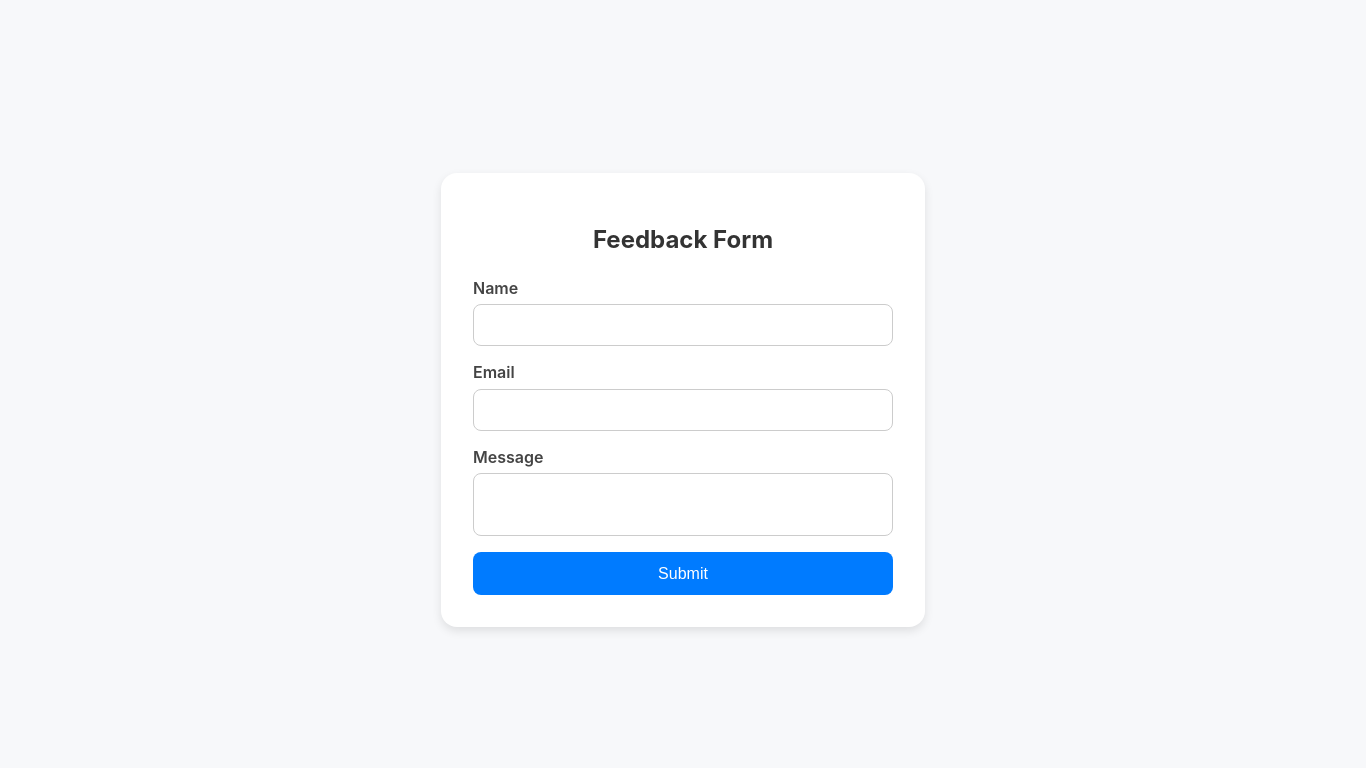
FeedbackForm › submits form successfully and shows modal
The image size is (1366, 768).
In the field labelled "Name": (683, 325) [473,304,893,346], type "Vishal"
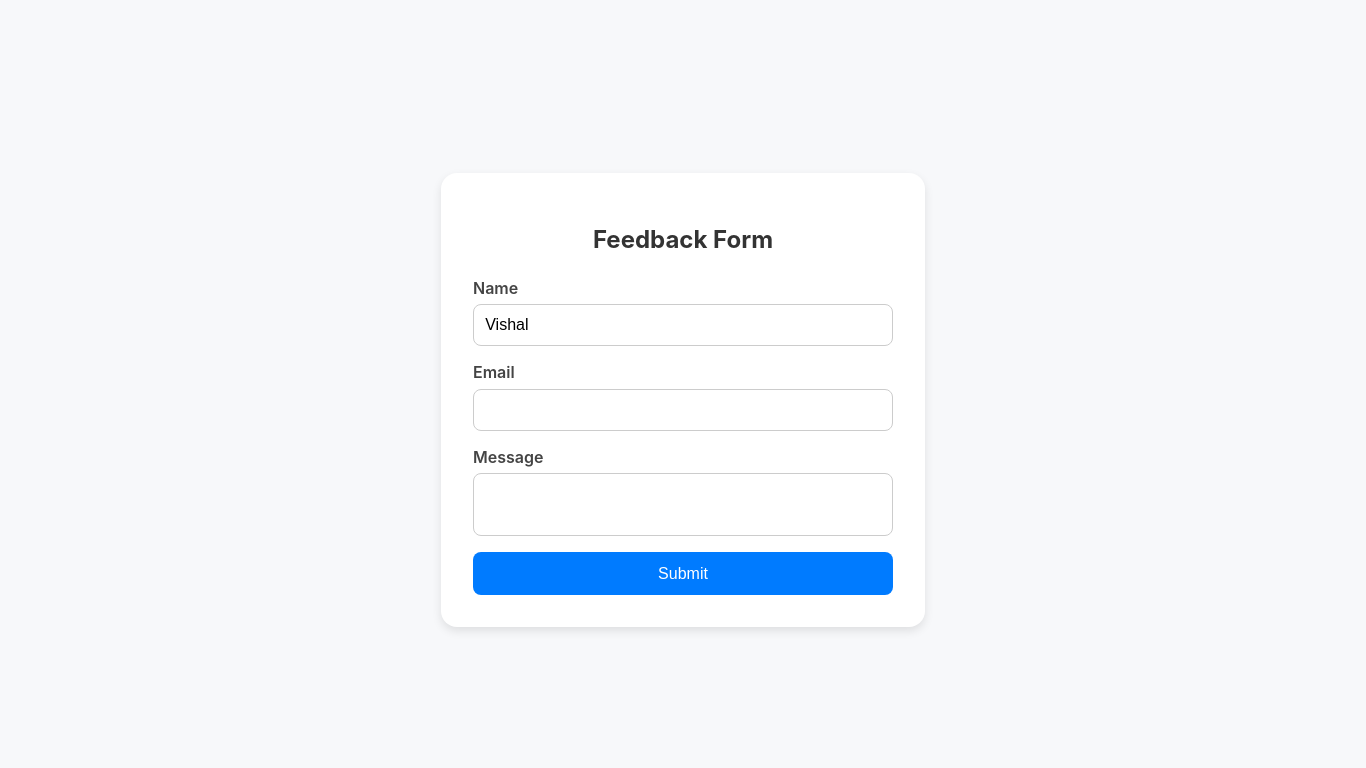
In the field labelled "Email": (683, 410) [473,389,893,431], type "vishal@example.com"
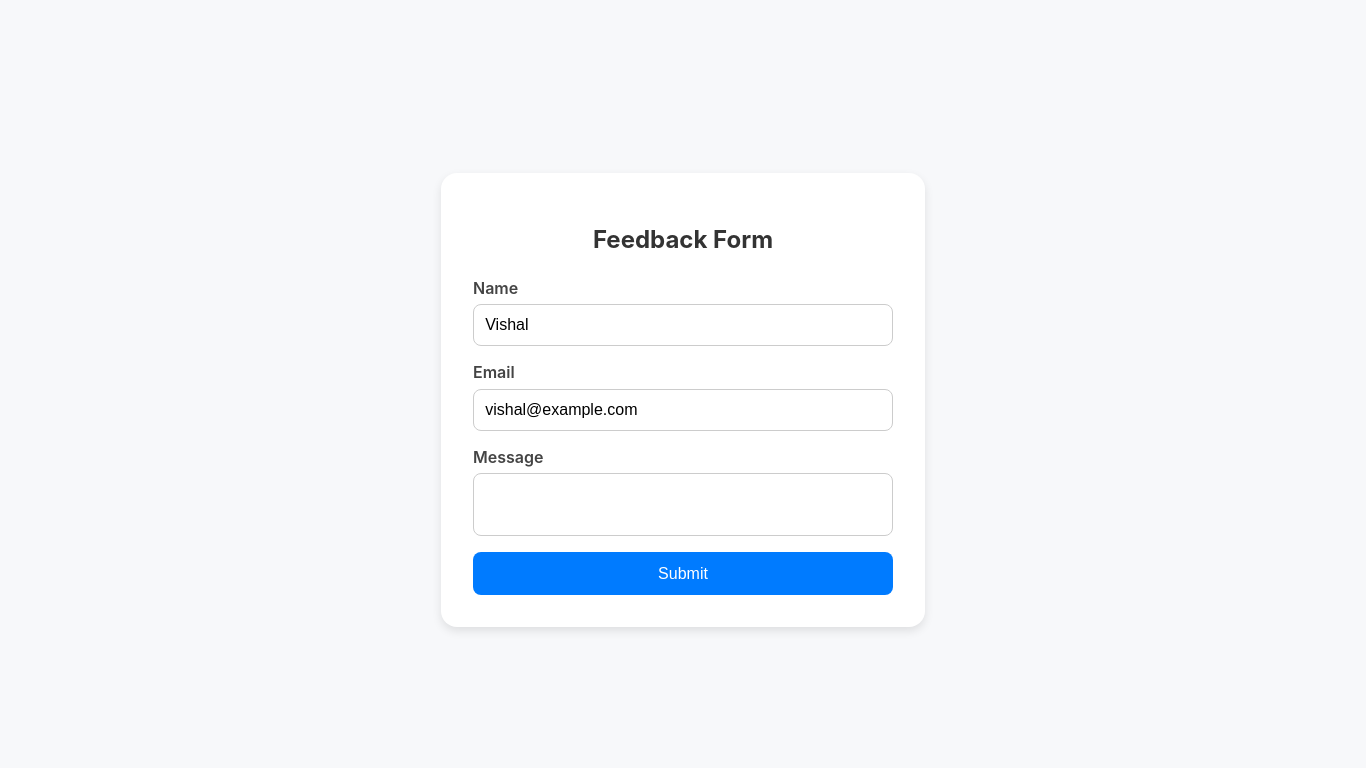
In the text box labelled "Message": (683, 505) [473,473,893,536], type "Hello"
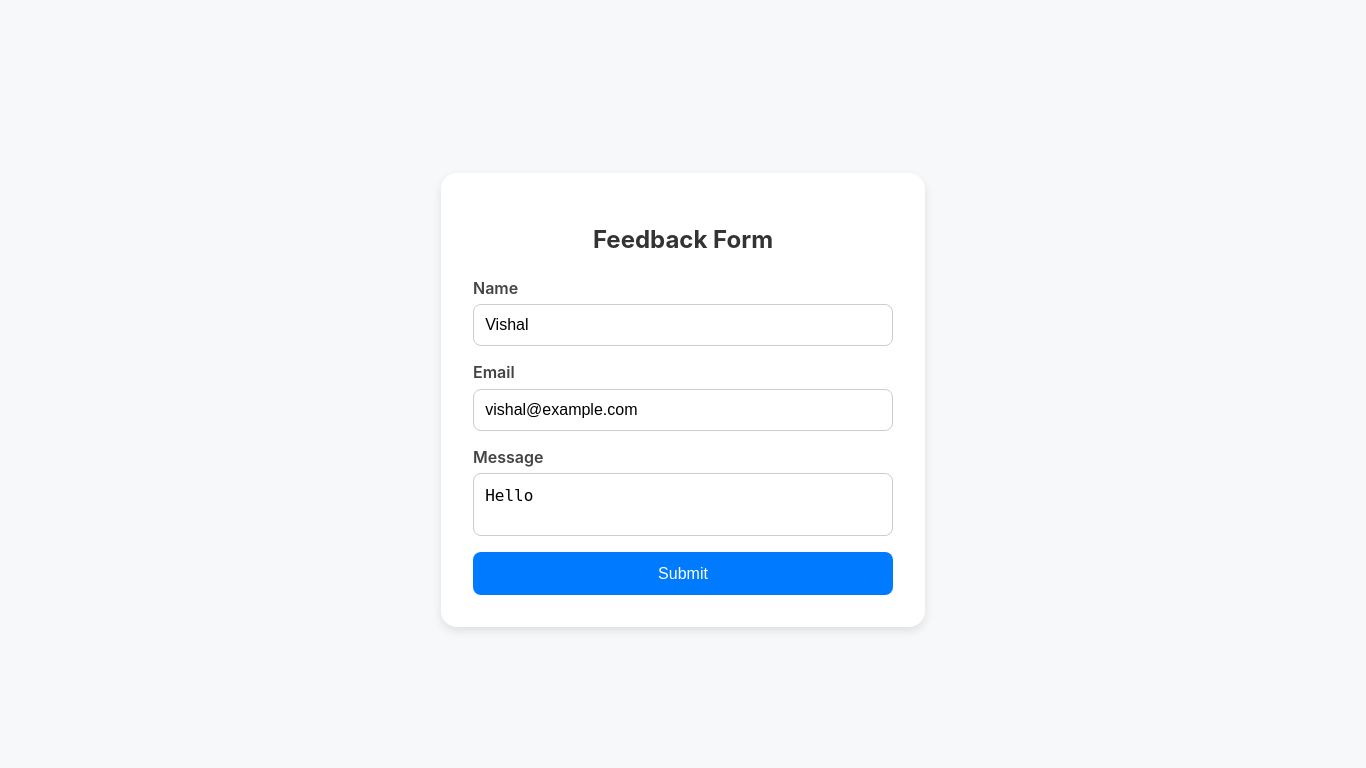
Click the button "Submit": click(683, 574) [473,552,893,595]
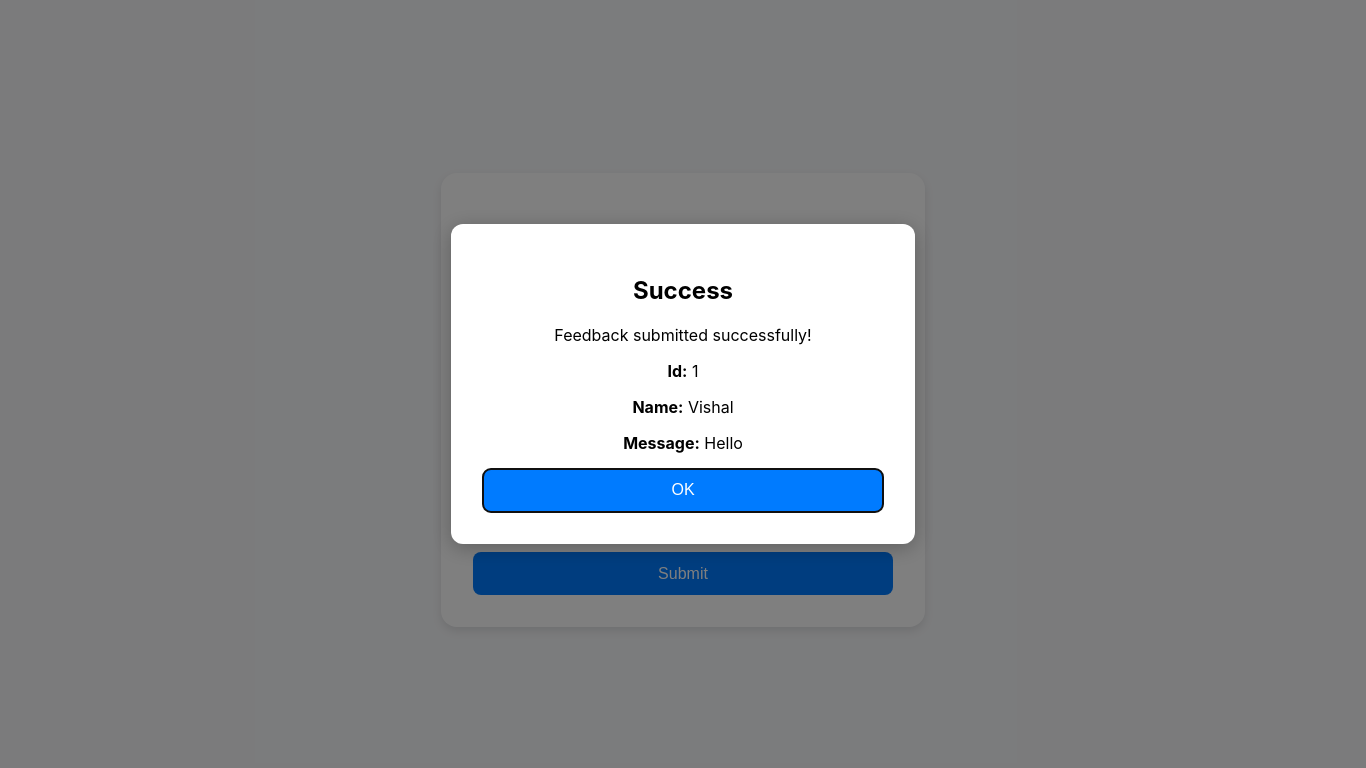
Check: the text "Feedback submitted successfully!" is shown, box [554,325,812,345]
Check: the element with test id "modal-id" reads "Id: 1", box [668,361,698,381]
Check: the element with test id "modal-name" reads "Name: Vishal", box [632,397,734,417]
